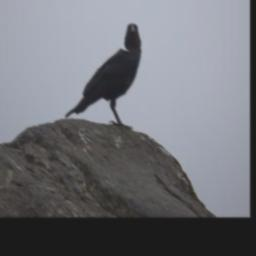Crow: (65, 21, 143, 128)
